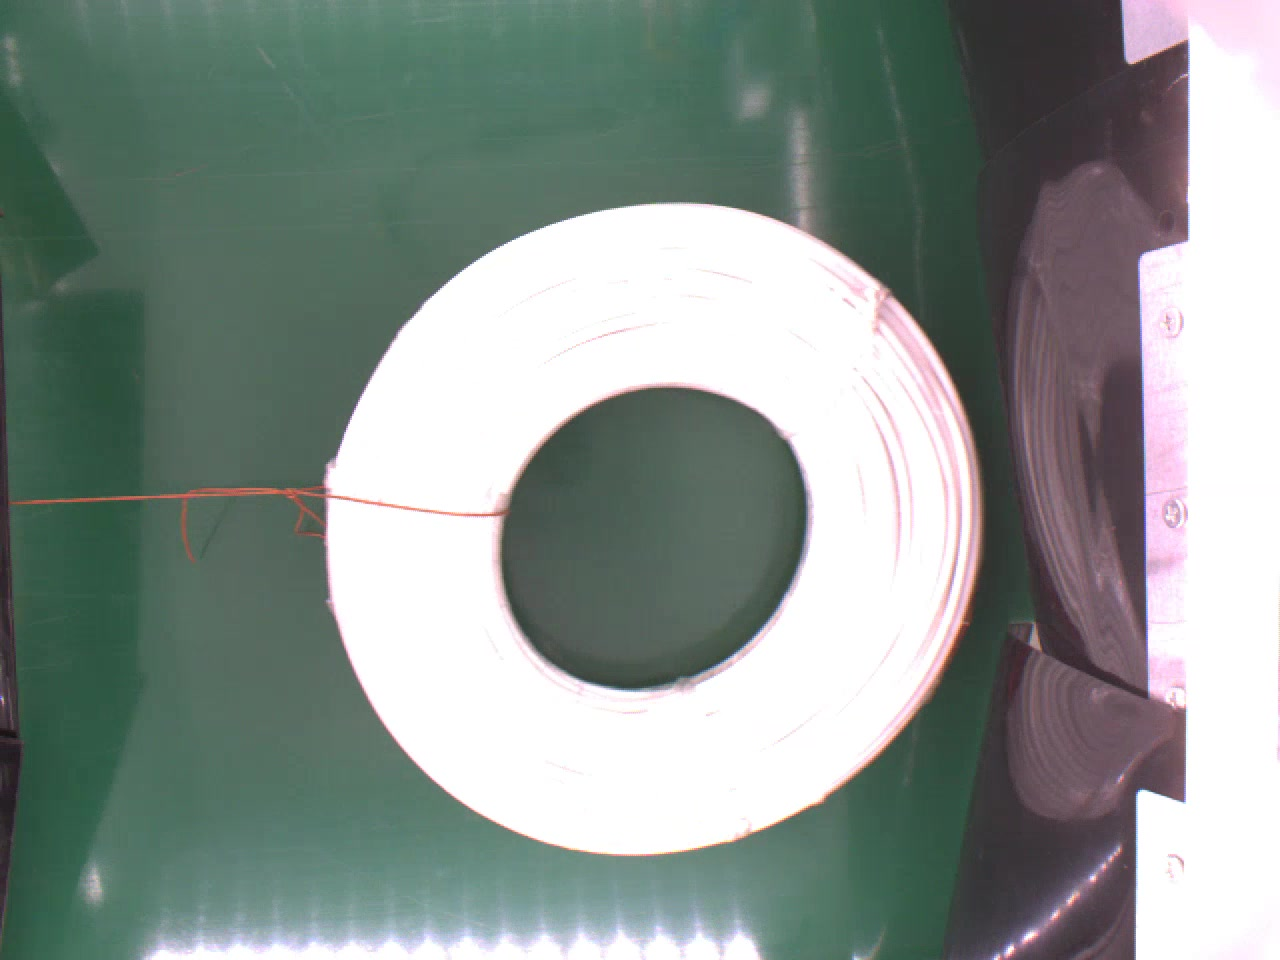white: (315, 190, 996, 862)
